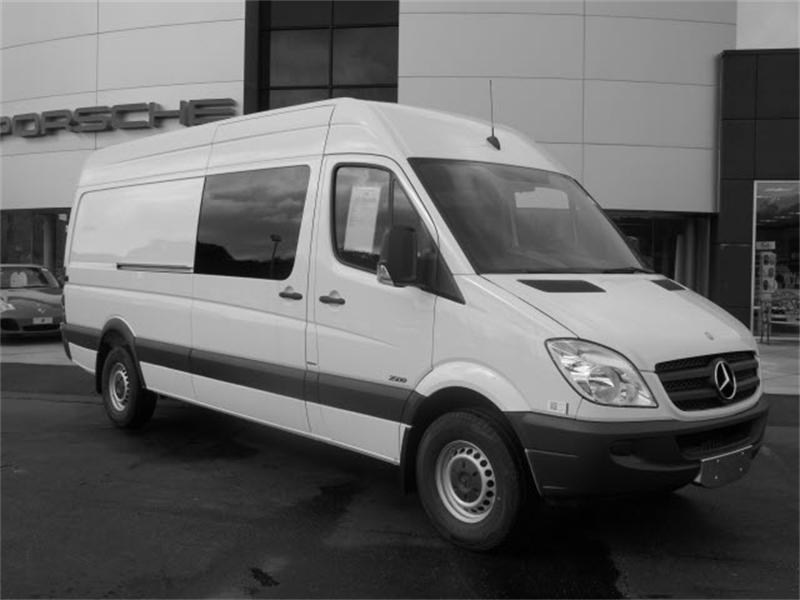car: (63, 81, 771, 552)
